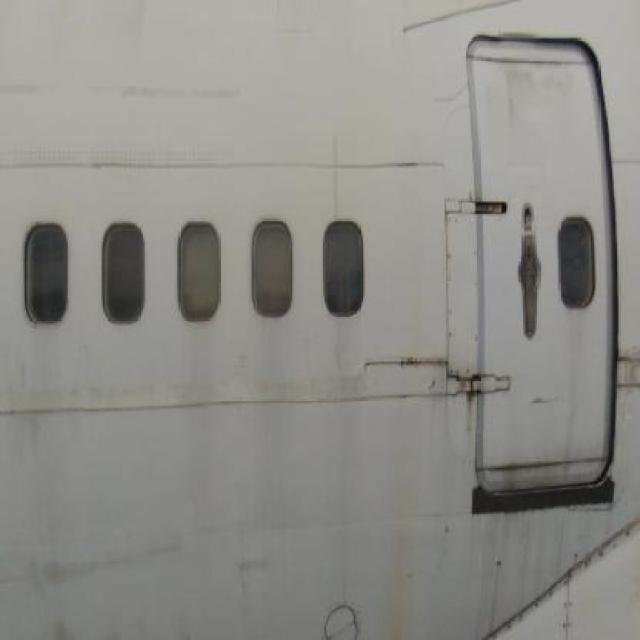Missing-Rivet: (442, 188, 493, 383), (480, 583, 582, 640), (561, 516, 640, 589)
Scartch: (357, 350, 523, 433), (393, 0, 520, 52)
